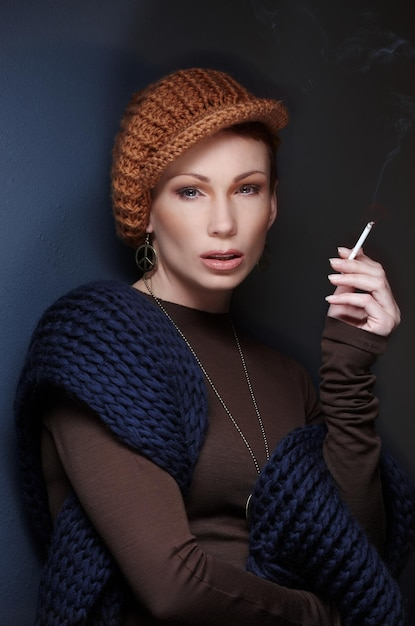cigarette: (345, 218, 374, 262)
